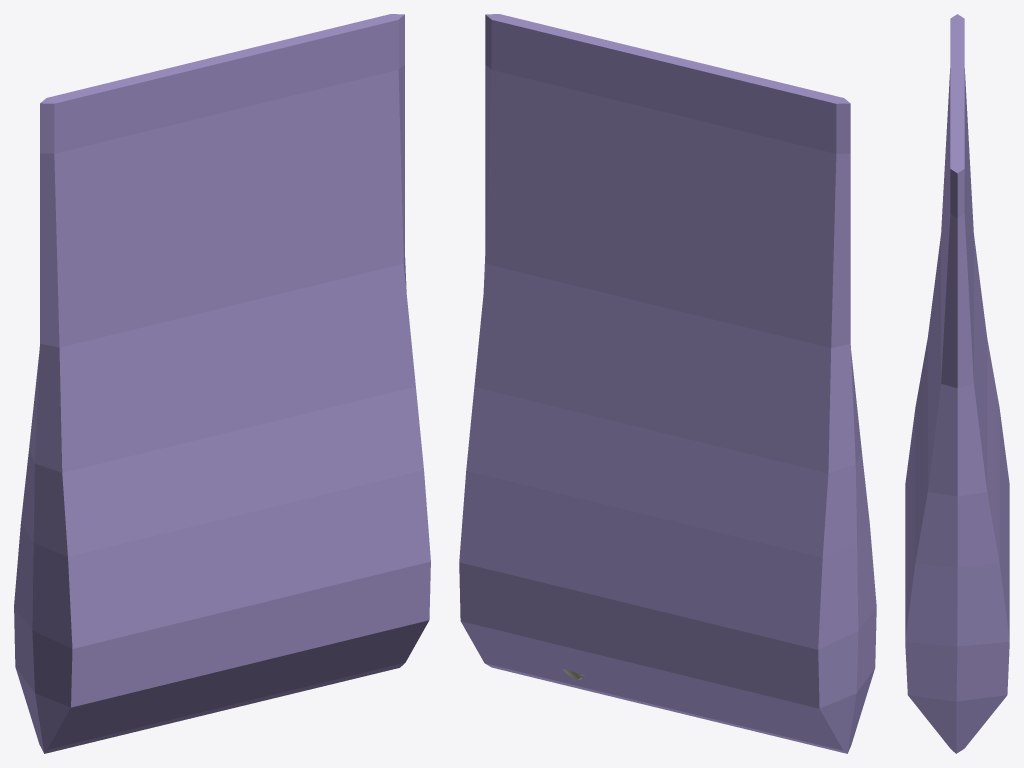
File: xanax.FBX
3 views of the same model, side by side, from view 1: azimuth 30°, elevation 25°; view 2: azimuth 150°, elevation 25°; view 3: azimuth 270°, elevation 25° (orthographic). The views are drawn at different scales.
Visible parts, largest first — view 1: xanax; view 2: xanax; view 3: xanax.
Boxes of the visible parts, left/top/right/bottom form: xanax: left=14, top=14, right=430, bottom=753; xanax: left=459, top=14, right=876, bottom=753; xanax: left=905, top=14, right=1009, bottom=753.
Bounding box in the file's own units: 10.15 × 16.63 × 2.7.
